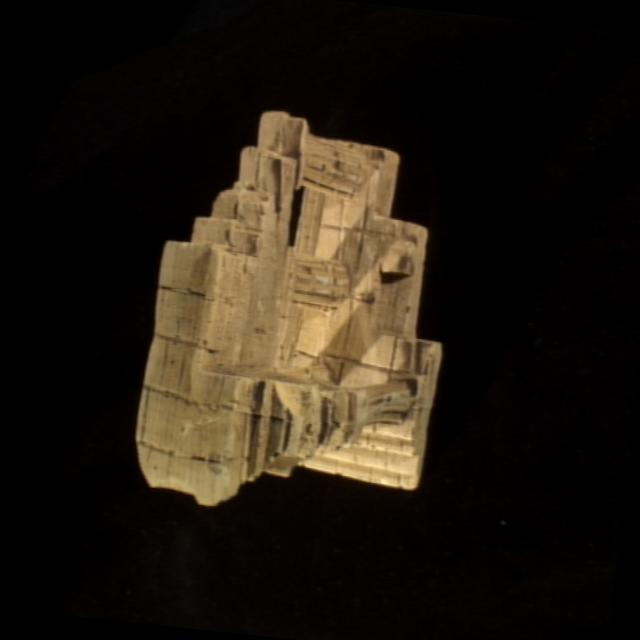Instance-Segmentation: (136, 113, 441, 505)
